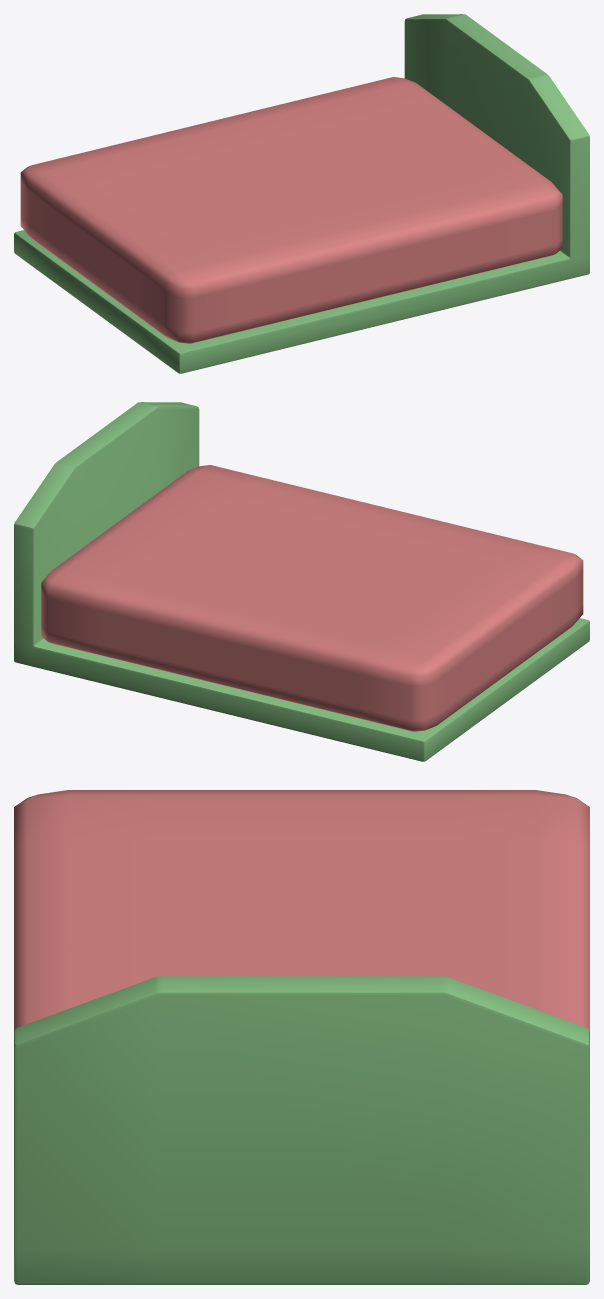
Rendered from lit.fbx.
3 views of the same model, one above another, from view 1: azimuth 30°, elevation 25°; view 2: azimuth 150°, elevation 25°; view 3: azimuth 270°, elevation 25° (orthographic). The views are drawn at different scales.
Parts seen in each view (by area): view 1: Box033; view 2: Box033; view 3: Box033.
Boxes of the visible parts, left/top/right/bottom form: Box033: left=14, top=14, right=589, bottom=373; Box033: left=14, top=402, right=589, bottom=761; Box033: left=14, top=790, right=589, bottom=1284.
Size of the model in its own units: 200 by 78.88 by 140.
